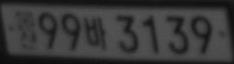1: (140, 13, 162, 55)
3: (165, 14, 190, 55), (115, 14, 139, 54)
9: (190, 15, 213, 55), (36, 10, 59, 49), (59, 12, 82, 51)
바: (83, 15, 107, 49)
울산_V: (13, 10, 36, 52)
